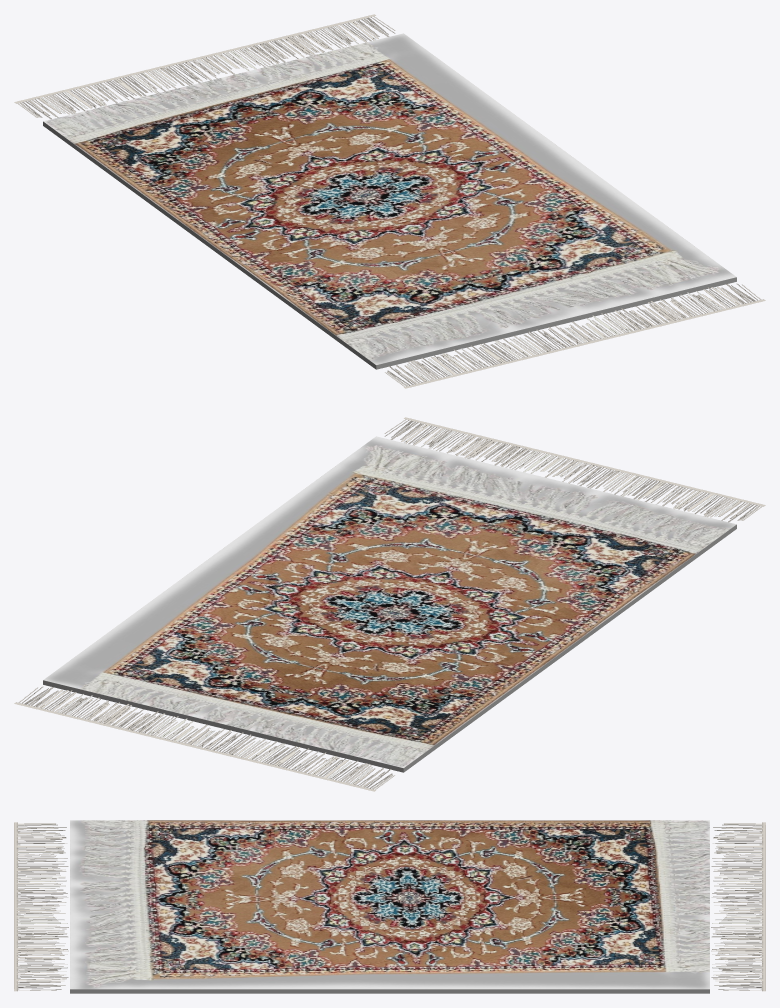
3 views of the same model, one above another, from view 1: azimuth 30°, elevation 25°; view 2: azimuth 150°, elevation 25°; view 3: azimuth 270°, elevation 25° (orthographic). The views are drawn at different scales.
Parts seen in each view (by area): view 1: rug, fringeB, fringeA, side; view 2: rug, fringeA, fringeB, side; view 3: rug, fringeA, fringeB, side.
Boxes of the visible parts, x1,y1,x2,y2 form: rug: (43,33,736,364); fringeB: (385,283,765,388); fringeA: (14,14,395,119); side: (43,121,736,369); rug: (43,436,736,767); fringeA: (14,686,394,791); fringeB: (384,417,765,522); side: (43,524,736,772); rug: (70,820,709,989); fringeA: (711,822,765,991); fringeB: (14,822,68,991); side: (70,989,709,993).
Size of what is drawn, in the model's own units: 0.5 by 0.00614 by 0.94.
2 materials, 2 textured.
